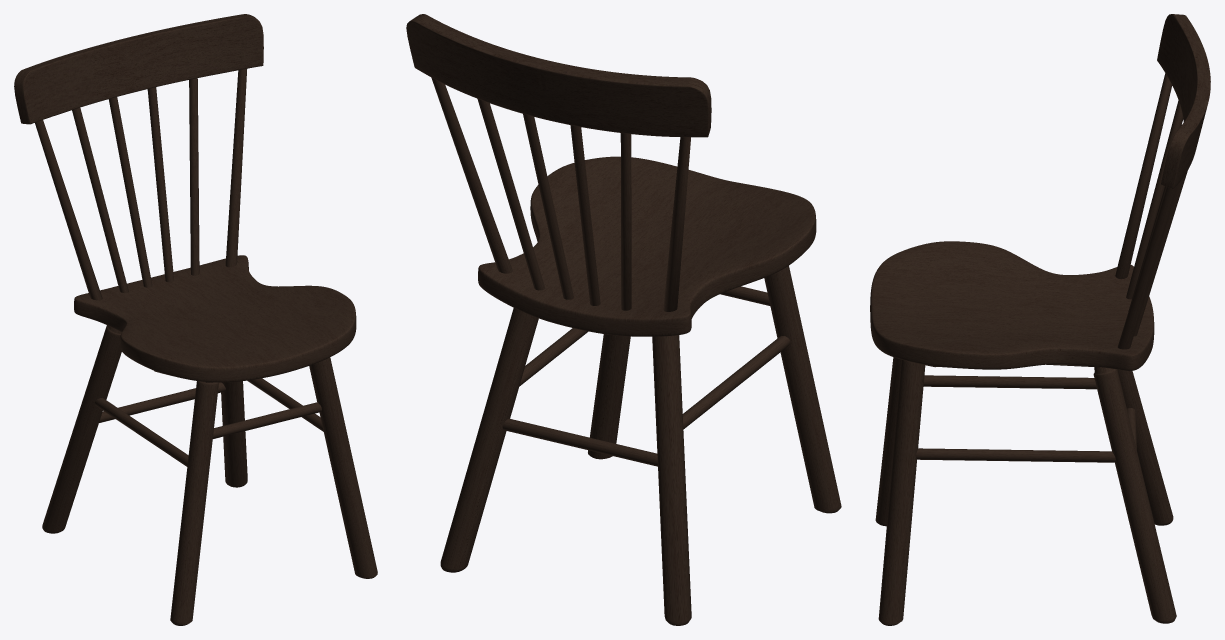
The model's file is Chair.glb.
3 views of the same model, side by side, from view 1: azimuth 30°, elevation 25°; view 2: azimuth 150°, elevation 25°; view 3: azimuth 270°, elevation 25° (orthographic). The views are drawn at different scales.
Parts seen in each view (by area): view 1: Cube, Cube.003, Cylinder.002, Cylinder.001, Cylinder.006, Cylinder.009, Cylinder.008, Cylinder.003, Cylinder.004, Cylinder.005; view 2: Cube, Cube.003, Cylinder.001, Cylinder.002, Cylinder.006, Cylinder.008, Cylinder.009, Cylinder.003, Cylinder.005; view 3: Cube, Cylinder.001, Cylinder.002, Cube.003, Cylinder.003, Cylinder.006, Cylinder.008.
Boxes of the visible parts, x1,y1,x2,y2 form: Cube: (74,255,356,382); Cube.003: (14,14,263,124); Cylinder.002: (170,357,377,625); Cylinder.001: (42,325,247,533); Cylinder.006: (35,68,246,300); Cylinder.009: (108,87,173,287); Cylinder.008: (72,78,199,292); Cylinder.003: (94,378,323,466); Cylinder.004: (213,402,321,438); Cylinder.005: (99,382,225,422); Cube: (478,156,816,336); Cube.003: (406,14,711,137); Cylinder.001: (440,308,691,625); Cylinder.002: (588,266,841,513); Cylinder.006: (431,77,690,311); Cylinder.008: (477,98,631,310); Cylinder.009: (523,114,600,305); Cylinder.003: (519,328,790,429); Cylinder.005: (502,418,657,466); Cube: (870,241,1154,370); Cylinder.001: (1093,367,1176,623); Cylinder.002: (875,357,925,625); Cube.003: (1157,14,1210,188); Cylinder.003: (916,375,1115,462); Cylinder.006: (1115,73,1177,349); Cylinder.008: (1126,100,1187,336).
Size of the model in its own units: 0.4737 by 0.8384 by 0.5197.
1 material, 1 textured.
